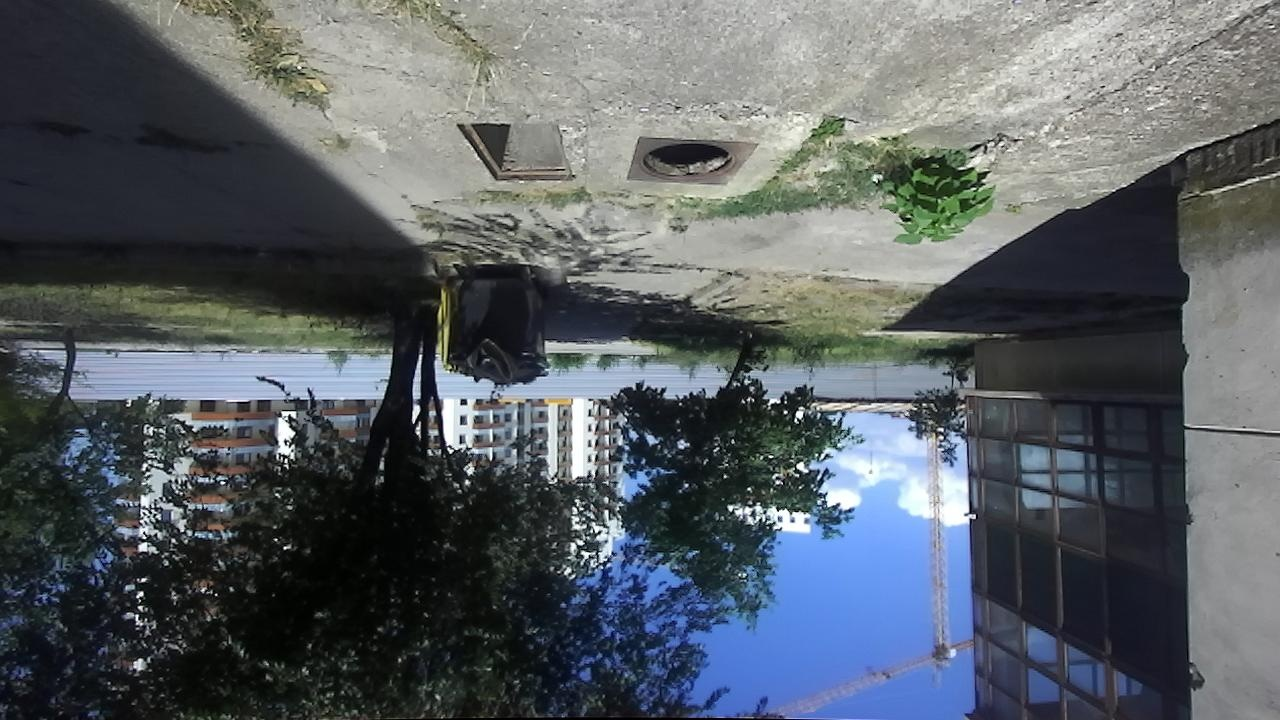drain: (454, 116, 576, 183), (639, 141, 740, 182)
